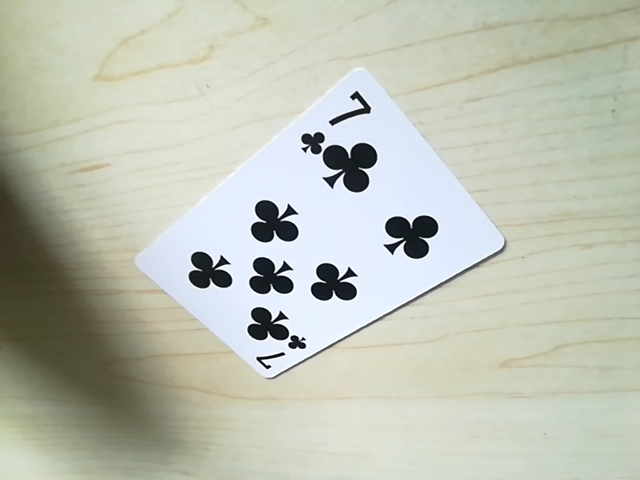mh 7: (303, 83, 372, 148), (248, 333, 308, 376)
